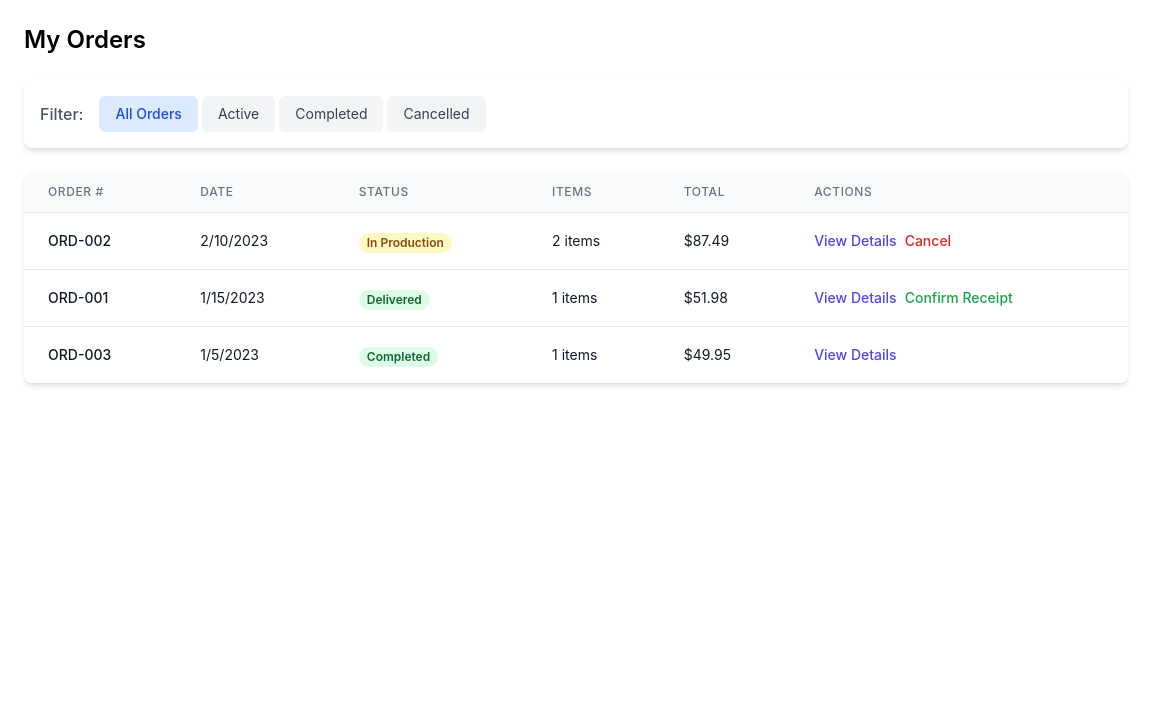
OrdersList Component › calculates and displays order total correctly
The image size is (1152, 720).
Check: the text "ORD-001" is shown, box [48,289,108,306]
Check: the row that starts with "ORD-001" shows "$51.98", box [24,270,1128,326]
Click the button "View Details" in the row of "ORD-002". click: (855, 241)
box: [814,231,897,251]
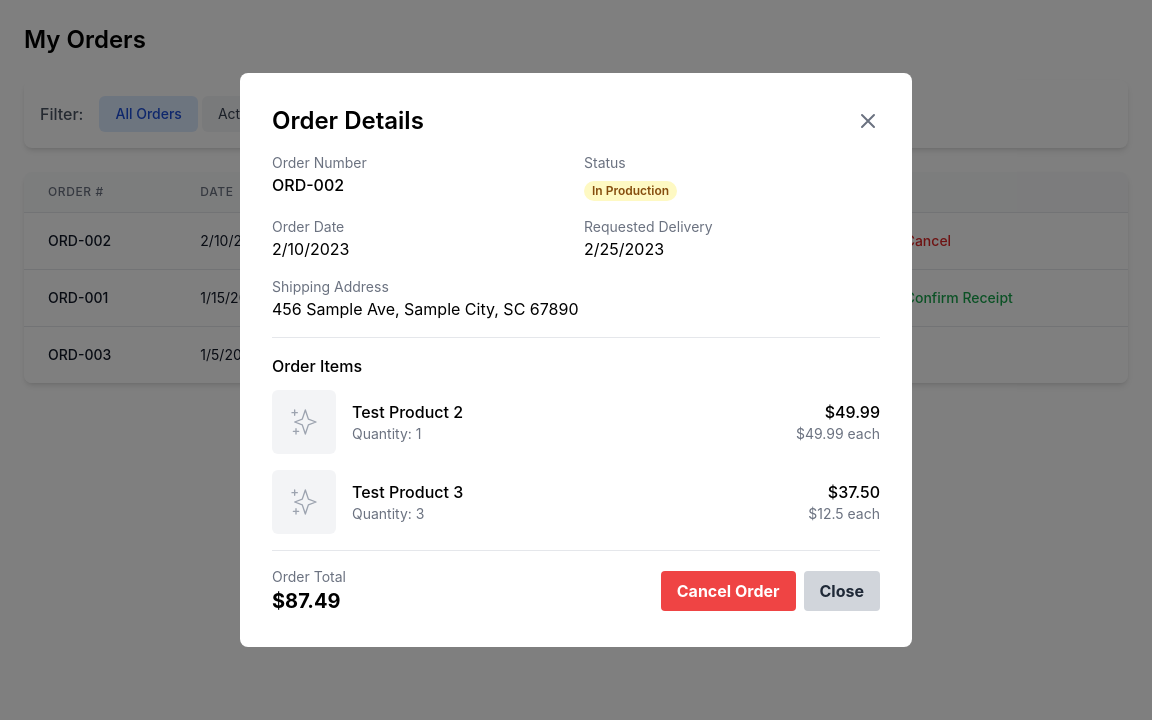
Check: the text "$87.49" is shown, box [272,587,346,615]
